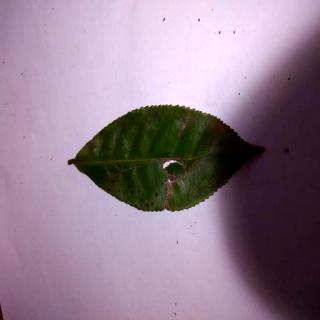Bird Eye Spot: (68, 105, 268, 214)
